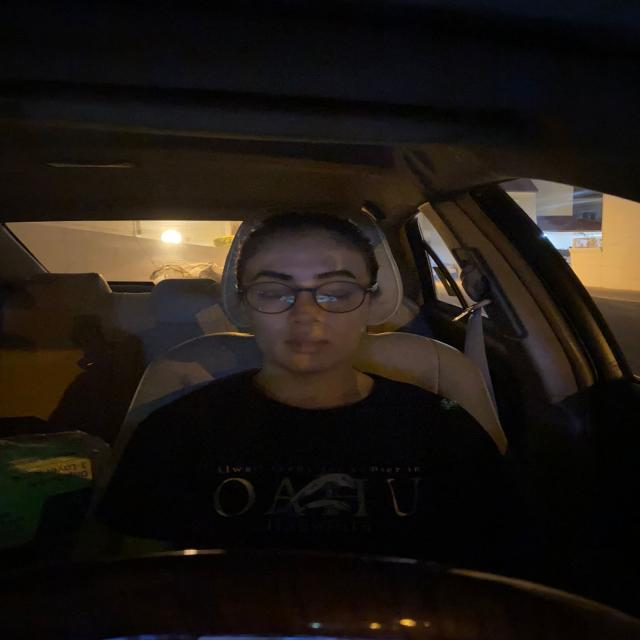drowsy: (233, 208, 382, 373)
